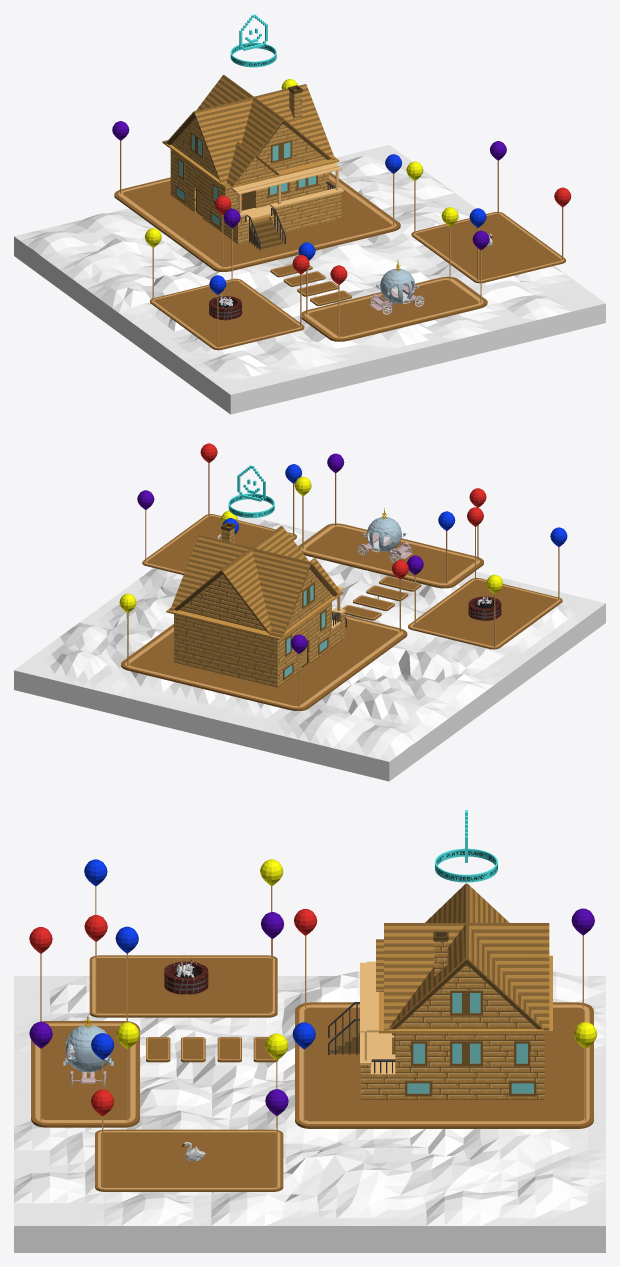
3 renders of one model, top to bottom at view 1: azimuth 30°, elevation 25°; view 2: azimuth 150°, elevation 25°; view 3: azimuth 270°, elevation 25°, orthographic. The views are drawn at different scales.
Visible parts, largest first — view 1: Cube.013, Cube.508, VEHICLES_FANTASY_CARRIAGE, TYPE_PREMIUM, OBJRANDOM_CAMPFIRE; view 2: Cube.013, Cube.508, VEHICLES_FANTASY_CARRIAGE, TYPE_PREMIUM, OBJRANDOM_CAMPFIRE; view 3: Cube.013, Cube.508, VEHICLES_FANTASY_CARRIAGE, OBJRANDOM_CAMPFIRE, TYPE_PREMIUM.
Boxes of the visible parts, box(x1,y1,x2,y2) form: Cube.013: box(14, 79, 605, 414); Cube.508: box(162, 75, 343, 250); VEHICLES_FANTASY_CARRIAGE: box(370, 260, 424, 314); TYPE_PREMIUM: box(230, 14, 276, 67); OBJRANDOM_CAMPFIRE: box(209, 294, 242, 320); Cube.013: box(14, 443, 605, 781); Cube.508: box(166, 522, 346, 687); VEHICLES_FANTASY_CARRIAGE: box(357, 508, 412, 562); TYPE_PREMIUM: box(228, 465, 274, 517); OBJRANDOM_CAMPFIRE: box(468, 596, 501, 620); Cube.013: box(14, 859, 605, 1252); Cube.508: box(328, 883, 552, 1099); VEHICLES_FANTASY_CARRIAGE: box(63, 1014, 113, 1087); OBJRANDOM_CAMPFIRE: box(164, 959, 208, 994); TYPE_PREMIUM: box(435, 810, 497, 882).
Bounding box in the file's own units: 4000 × 2459 × 4000.
Materials: 33 (3 with a texture image).
